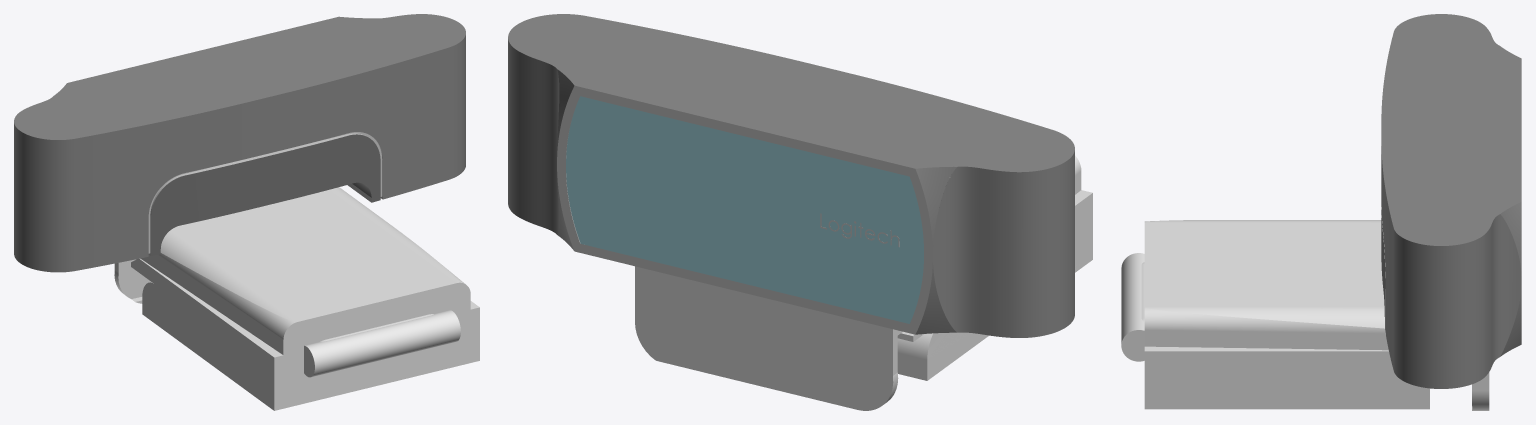
The model's file is logitech_c920.dae.
3 renders of one model, left to right at view 1: azimuth 30°, elevation 25°; view 2: azimuth 150°, elevation 25°; view 3: azimuth 270°, elevation 25°, orthographic. The views are drawn at different scales.
Visible parts, largest first — view 1: Object.001; view 2: Object.001; view 3: Object.001.
Boxes of the visible parts, <box> form: Object.001: <box>14,14,479,410</box>; Object.001: <box>508,14,1092,410</box>; Object.001: <box>1121,14,1521,410</box>.
Bounding box in the file's own units: 0.094 × 0.0685 × 0.0445.
